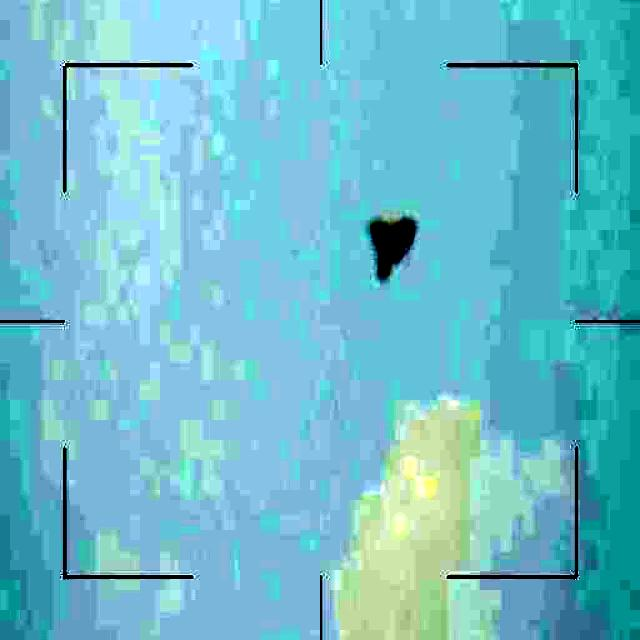bird: (368, 214, 420, 288)
